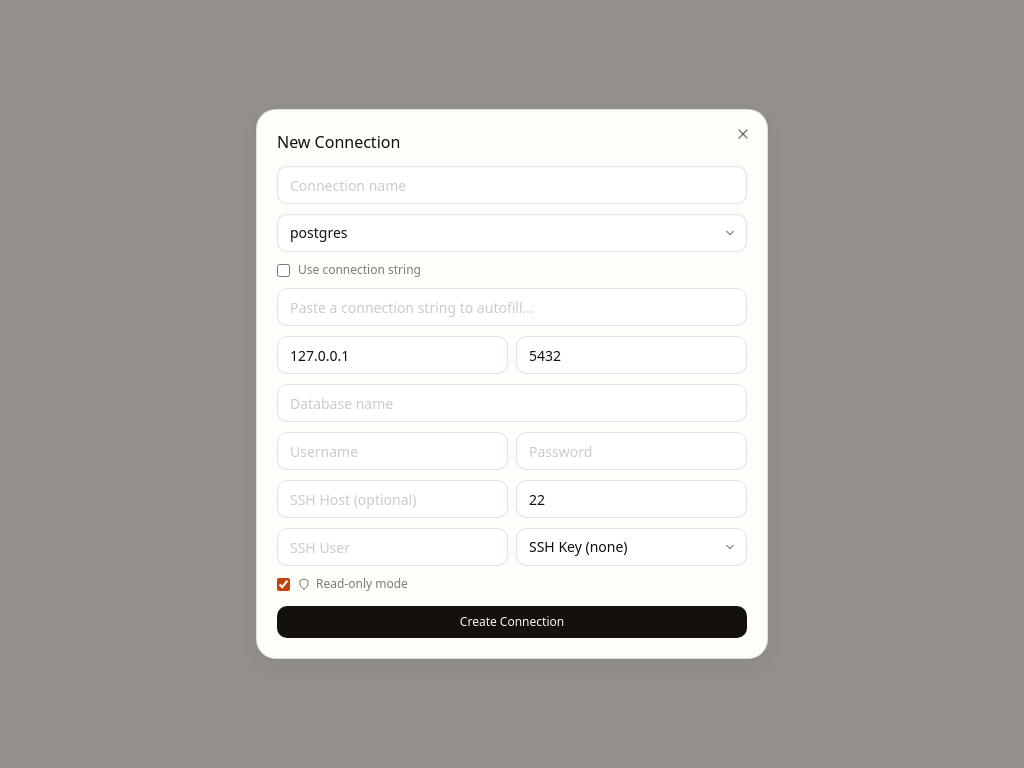
Test case: connection autofill › autofills host/port/db/user and detects type from a pasted string
The image size is (1024, 768).
Step 1. Type "postgres://alice:s3cret@db.example.com:6543/orders" into the field labelled "Paste a connection string to autofill…" → (512, 307), box [277, 288, 747, 326]
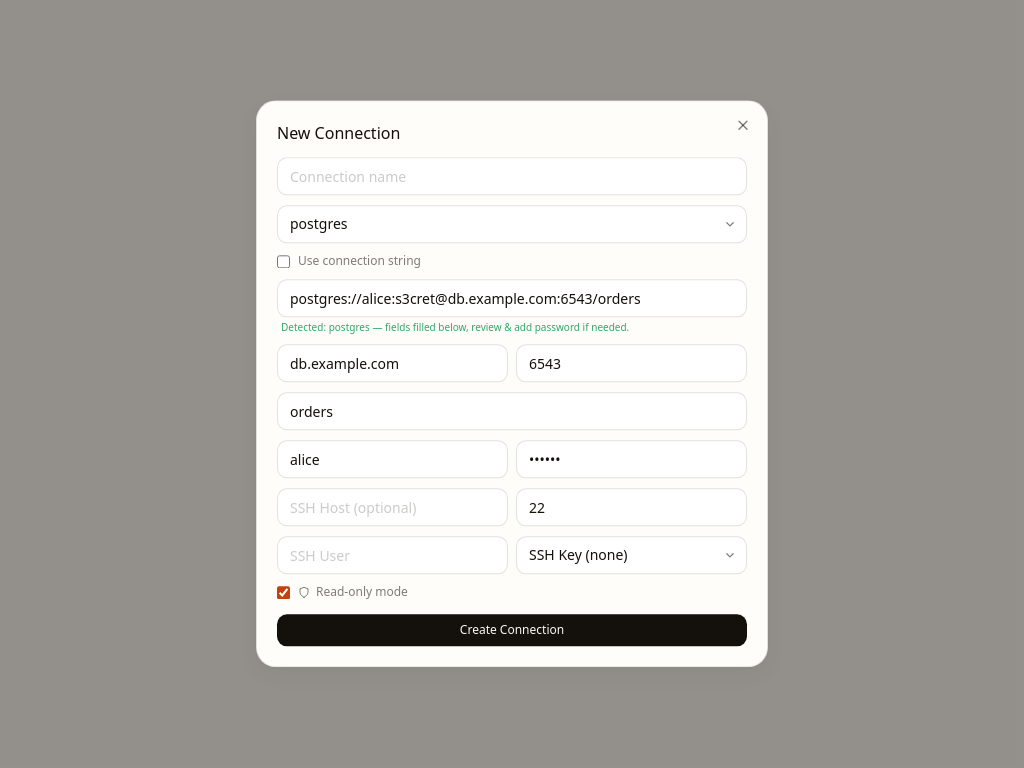
Check: the field named "database host" holds "db.example.com", box [277, 345, 508, 383]
Check: the field named "database port" holds "6543", box [516, 345, 747, 383]
Check: the field named "Database name" holds "orders", box [277, 393, 747, 431]
